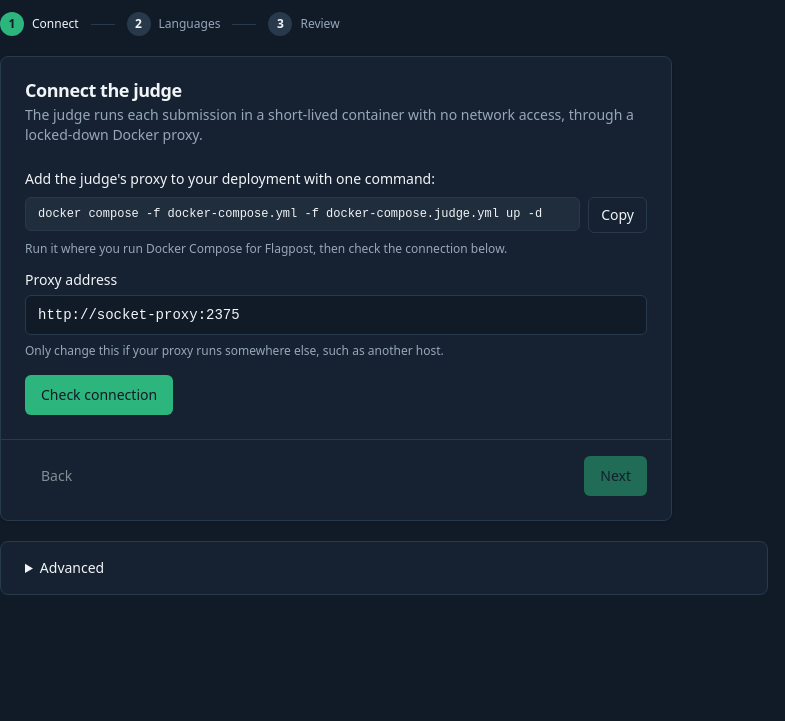
JudgeSettingsPanel — setup wizard (judge off) › labels every check leg in plain words, including the test judging
Step 1. Click the button "Check connection" → (99, 395), box top-left (25, 375), bottom-right (173, 415)
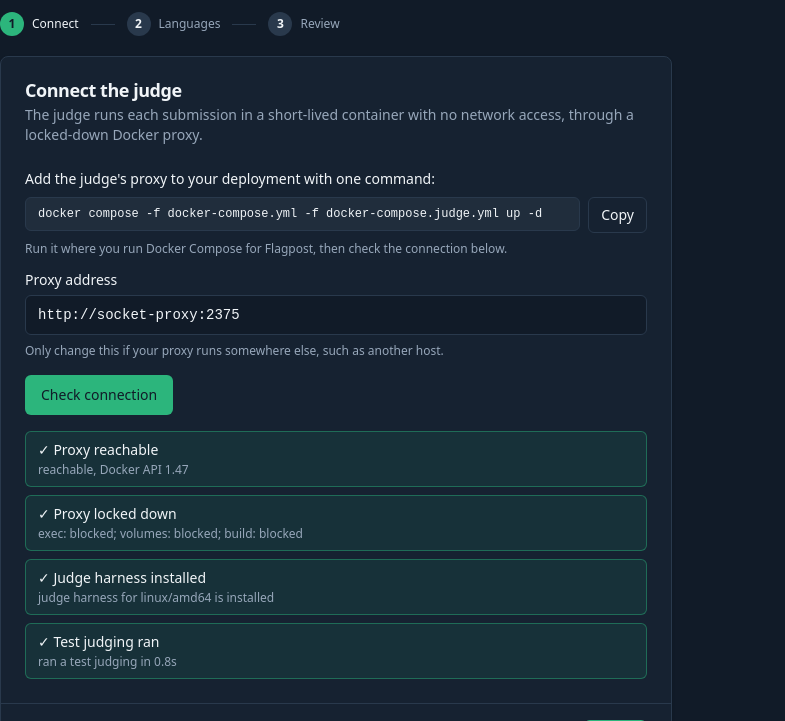
Expected: the text "✓ Proxy reachable" is shown, top-left (38, 440), bottom-right (158, 459)
Expected: the text "✓ Proxy locked down" is shown, top-left (38, 504), bottom-right (177, 523)
Expected: the text "✓ Judge harness installed" is shown, top-left (38, 568), bottom-right (206, 587)
